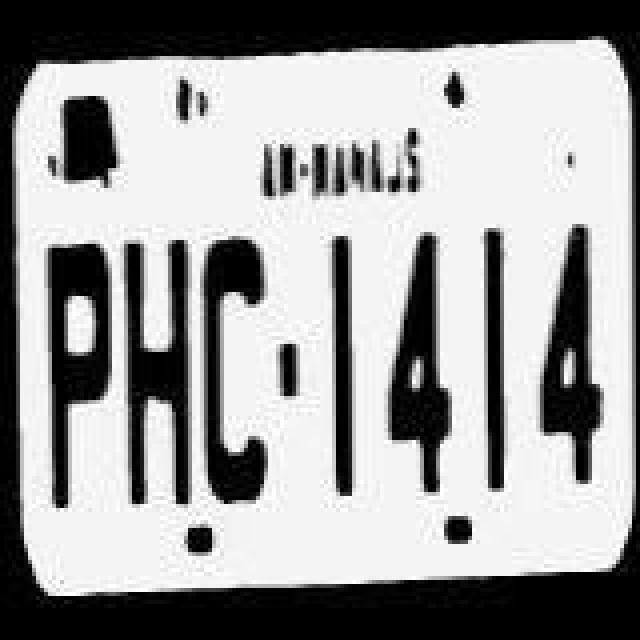1: (470, 220, 518, 500), (324, 218, 368, 502)
4: (532, 198, 616, 490), (384, 228, 460, 500)
C: (202, 232, 282, 520)
H: (120, 236, 196, 516)
P: (42, 238, 122, 530)
